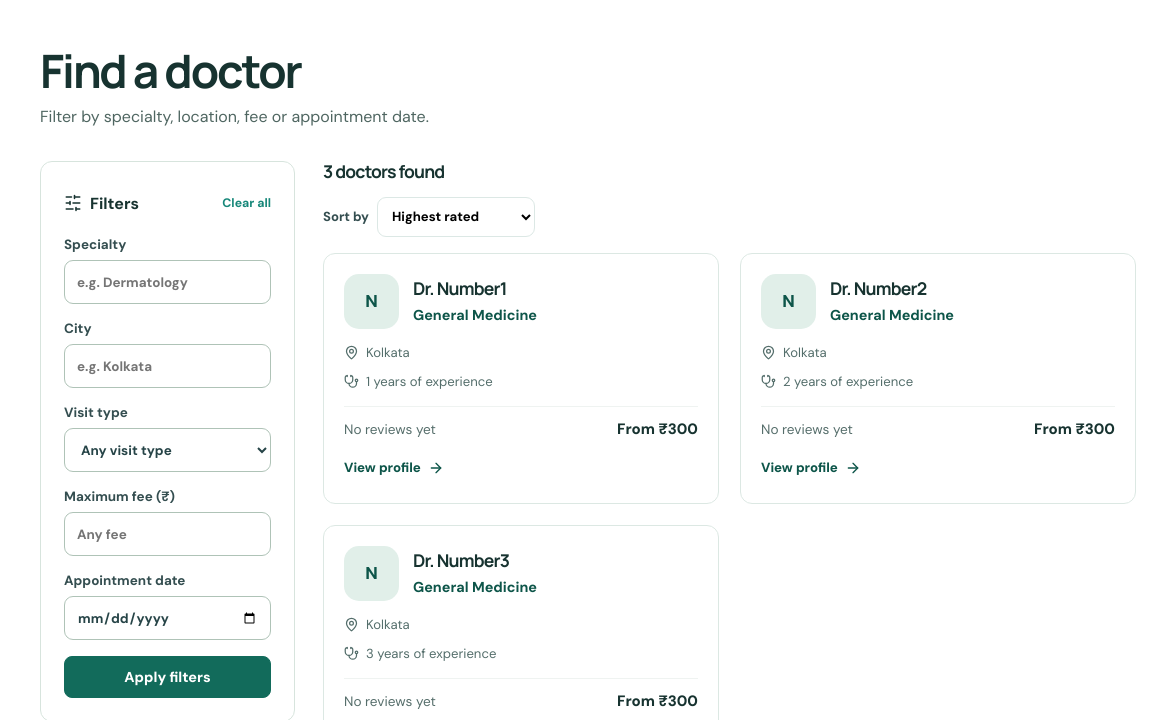
Test: doctor directory › keeps the chosen order when filters are applied
Check: the heading "3 doctors found" is shown, box top-left (323, 159), bottom-right (444, 183)
In the field labelled "City": (168, 366) top-left (64, 344), bottom-right (271, 388), type "Pune"
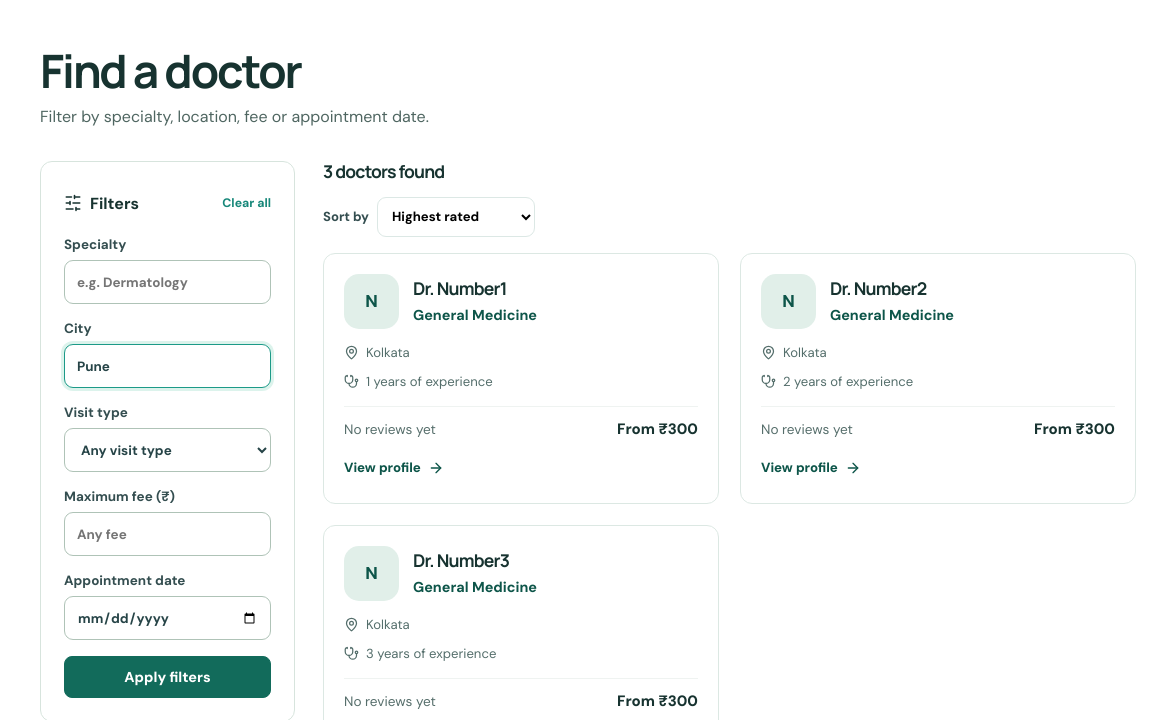
Click the button "Apply filters": (168, 677) top-left (64, 656), bottom-right (271, 698)
(page scrolled)
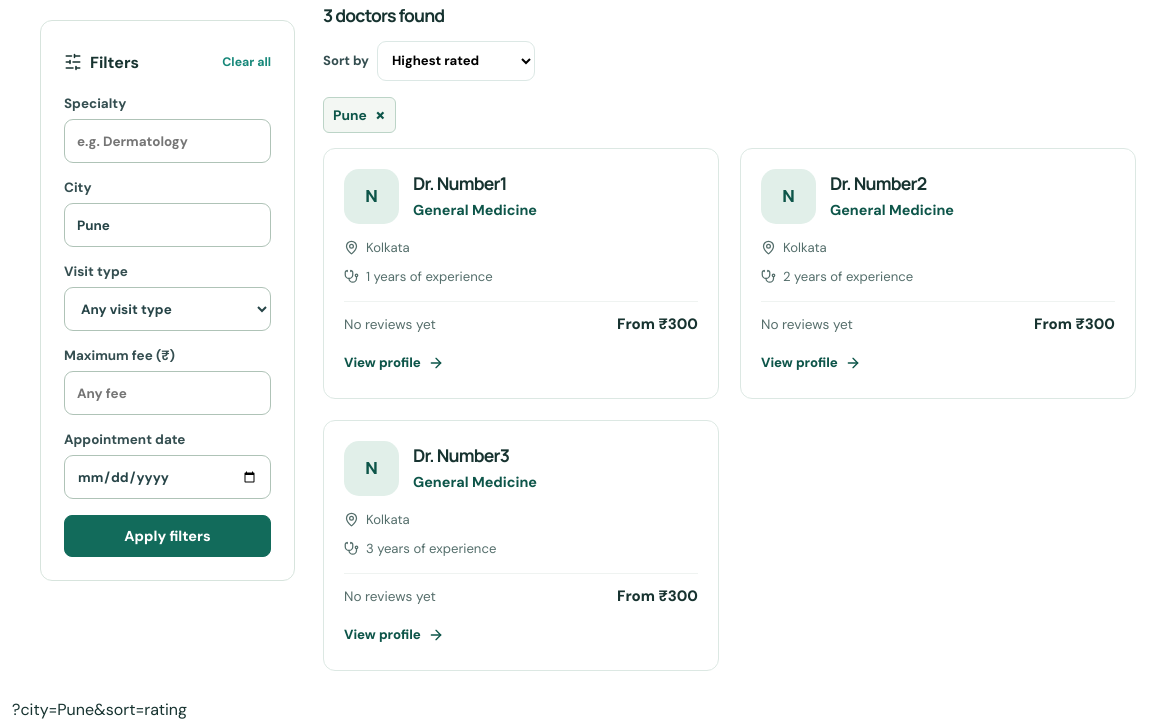
Check: the text with test id "search" shows "sort=rating", box top-left (12, 698), bottom-right (187, 719)
Check: the text with test id "search" shows "city=Pune", box top-left (12, 698), bottom-right (187, 719)
